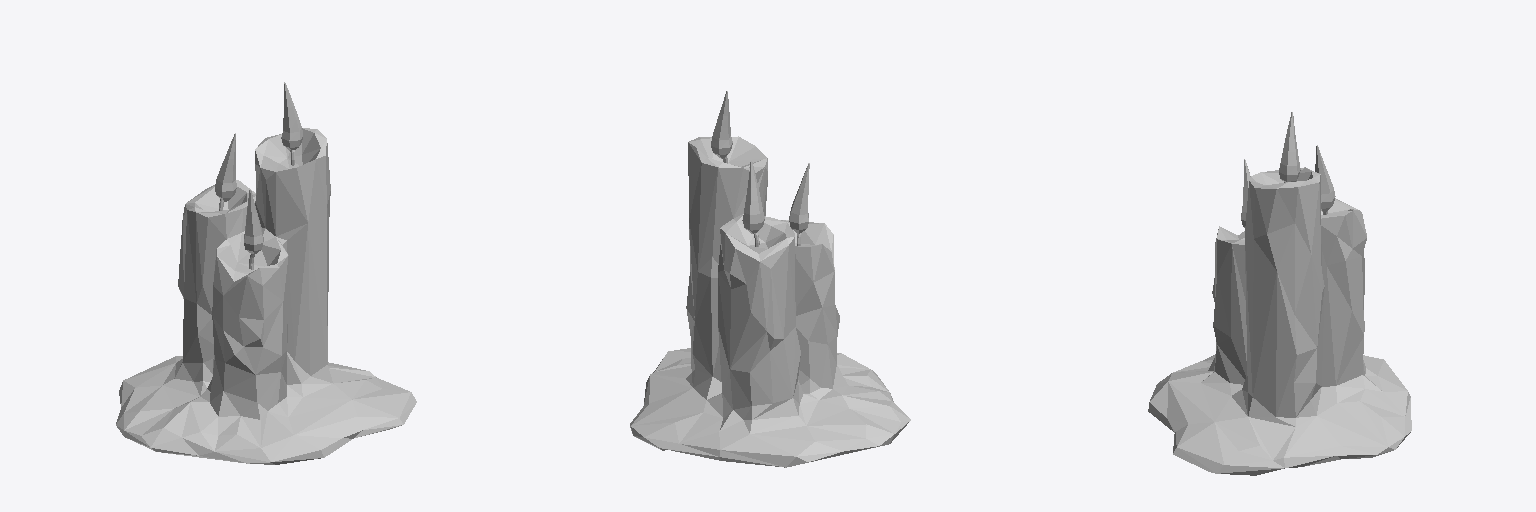
Rendered from candle4.obj.
3 views of the same model, side by side, from view 1: azimuth 30°, elevation 25°; view 2: azimuth 150°, elevation 25°; view 3: azimuth 270°, elevation 25° (orthographic).
Visible parts, largest first — view 1: Object003, candleflame002, candleflame003, candleflame001; view 2: Object003, candleflame002, candleflame003, candleflame001; view 3: Object003, candleflame003, candleflame002.
Part boxes in pixels (bbox=[...]): Object003: bbox=[116, 128, 416, 464]; candleflame002: bbox=[215, 133, 236, 201]; candleflame003: bbox=[281, 82, 302, 150]; candleflame001: bbox=[244, 189, 263, 253]; Object003: bbox=[630, 136, 910, 467]; candleflame002: bbox=[742, 161, 764, 233]; candleflame003: bbox=[711, 91, 732, 158]; candleflame001: bbox=[789, 163, 809, 233]; Object003: bbox=[1148, 167, 1411, 475]; candleflame003: bbox=[1279, 112, 1300, 182]; candleflame002: bbox=[1315, 145, 1335, 211].
Size of the model in its own units: 1.05 by 1.24 by 0.9231.